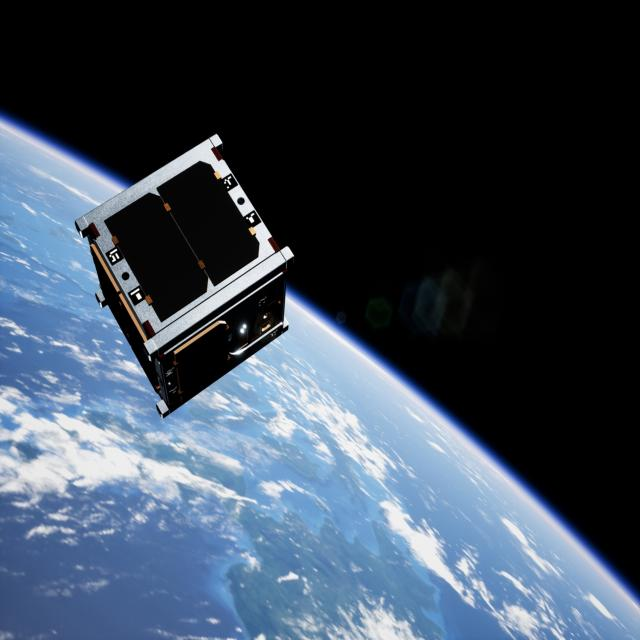satellite: (71, 128, 302, 424)
